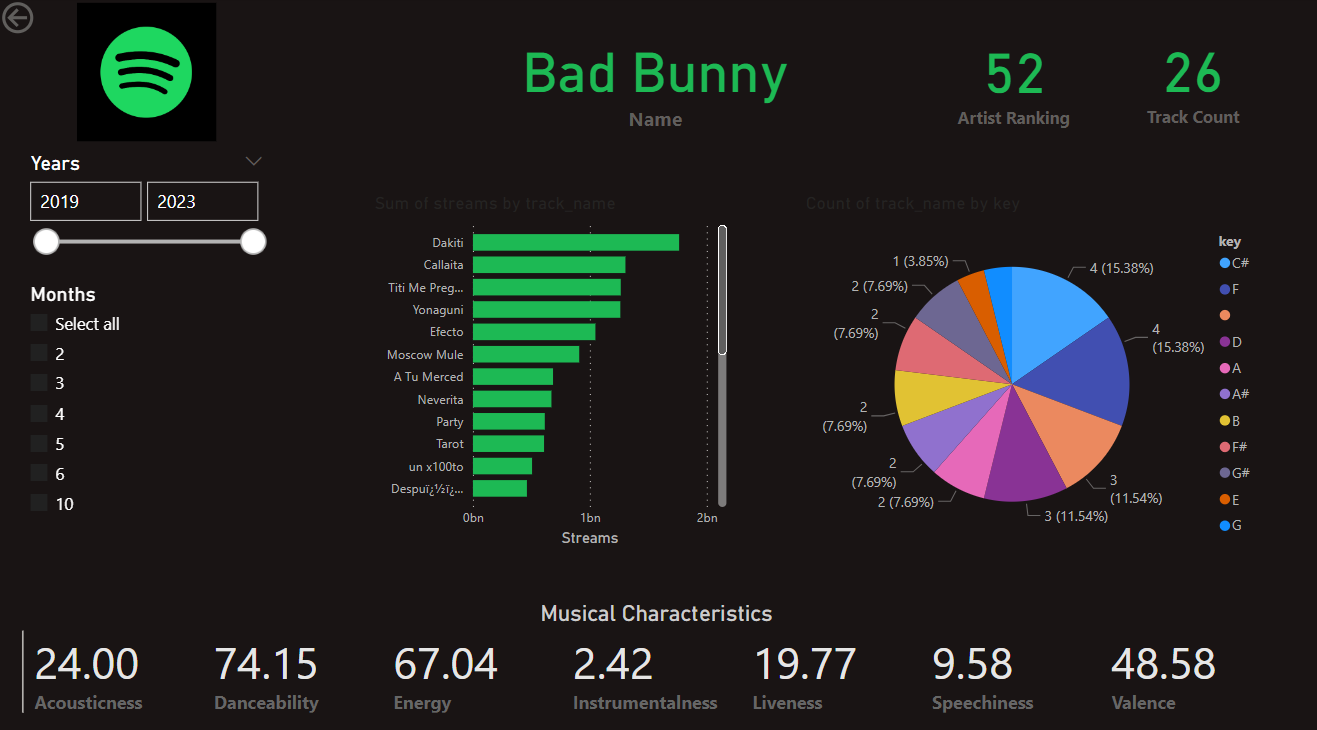

This screenshot's page, from the dashboard's own definition file:
{"tool":"powerbi","page":{"name":"Artists Information","canvas":[1280,720],"ordinal":2},"visuals":[{"type":"image","box":[72.7,0,144,145.3],"z":0},{"type":"slicer","title":"Years","fields":{"Values":["spotify-2023.released_year"]},"box":[18.8,144.9,249.2,165.1],"z":1000},{"type":"slicer","title":"Months","fields":{"Values":["spotify-2023.released_month"]},"box":[18.8,270.9,249.2,305.7],"z":2000},{"type":"actionButton","box":[0,0,100,40],"z":3000},{"type":"card","fields":{"Values":["Min(spotify-2023.artist(s)_name.1)"]},"box":[376.3,21.7,518.6,112.2],"z":4000},{"type":"clusteredBarChart","fields":{"Y":["Sum(spotify-2023.streams)"],"Category":["spotify-2023.track_name"]},"box":[359.2,187.8,349.6,346.9],"z":5000},{"type":"pieChart","fields":{"Category":["spotify-2023.key"],"Y":["CountNonNull(spotify-2023.track_name)"]},"box":[775.5,188.1,451.1,352.2],"z":6000},{"type":"multiRowCard","title":"Musical Characteristics","fields":{"Values":["Avg(spotify-2023.acousticness_%)","Avg(spotify-2023.danceability_%)","Avg(spotify-2023.energy_%)","Avg(spotify-2023.instrumentalness_%)","Avg(spotify-2023.liveness_%)","Avg(spotify-2023.speechiness_%)","Avg(spotify-2023.valence_%)"]},"box":[18.8,582.3,1234.2,137.6],"z":7000},{"type":"card","fields":{"Values":["Sum(spotify-2023.Artist Ranking)"]},"box":[885.2,21.7,191.8,112.2],"z":8000},{"type":"card","fields":{"Values":["Count(spotify-2023.track_name)"]},"box":[1063.7,20.5,180.9,112.2],"z":9000}]}

Visuals, with their boxes in screenshot pixels (x1, y1, x2, y2), scaled from the page's 1280x720 canvas onto the 1317x730 screenshot:
image: region(75, 0, 223, 147)
"Years" slicer: region(19, 147, 276, 314)
"Months" slicer: region(19, 275, 276, 585)
actionButton: region(0, 0, 103, 41)
card - Min(spotify-2023.artist(s)_name.1): region(387, 22, 921, 136)
clusteredBarChart - Sum(spotify-2023.streams) x spotify-2023.track_name: region(370, 190, 729, 542)
pieChart - spotify-2023.key x CountNonNull(spotify-2023.track_name): region(798, 191, 1262, 548)
"Musical Characteristics" multiRowCard: region(19, 590, 1289, 729)
card - Sum(spotify-2023.Artist Ranking): region(911, 22, 1108, 136)
card - Count(spotify-2023.track_name): region(1094, 21, 1281, 135)
